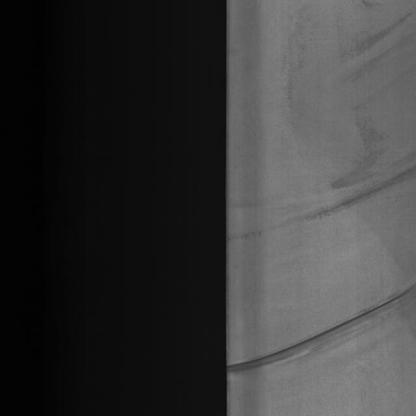rolled_pit: (228, 280, 414, 390), (226, 147, 414, 247)
